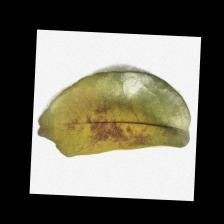black spot: (77, 93, 149, 141)
